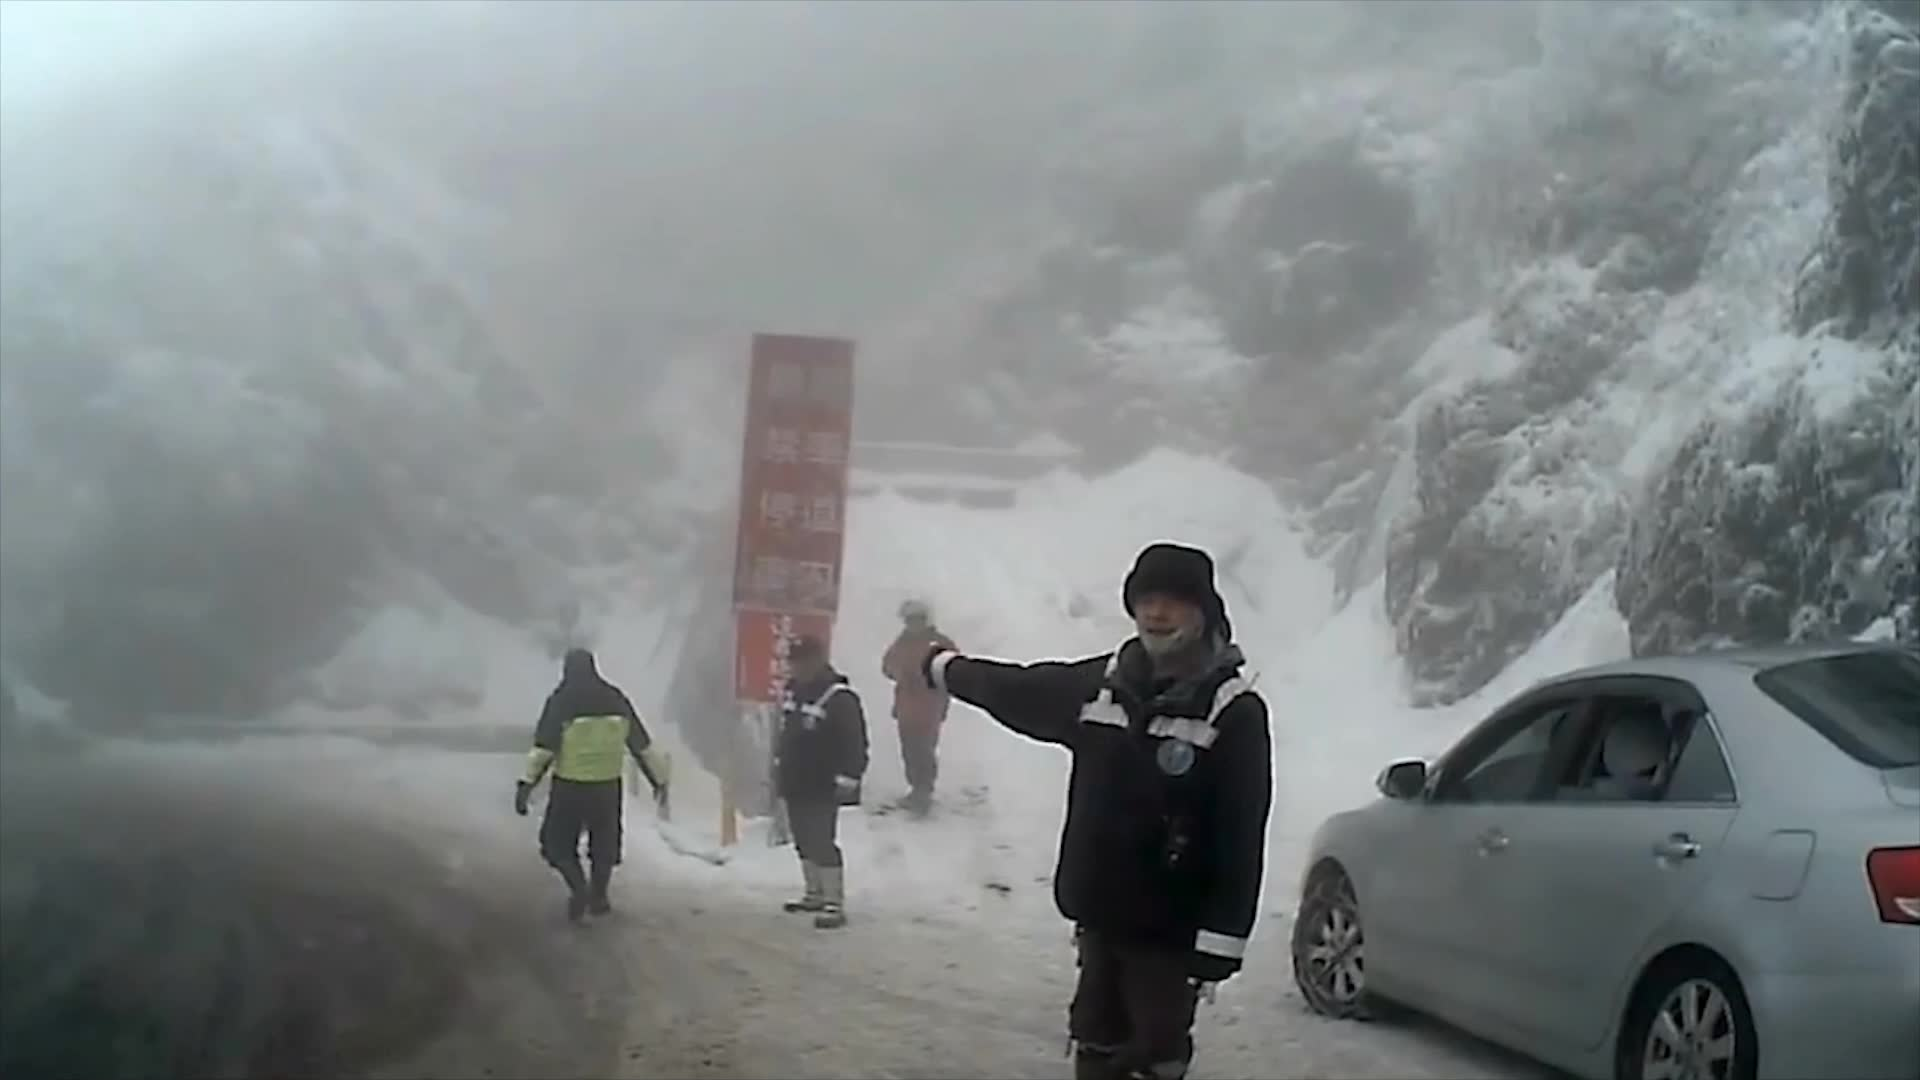pedestrian: (914, 543, 1264, 1080), (520, 649, 672, 920), (776, 631, 869, 928), (882, 594, 968, 823)
vehicle: (1287, 643, 1920, 1080)
